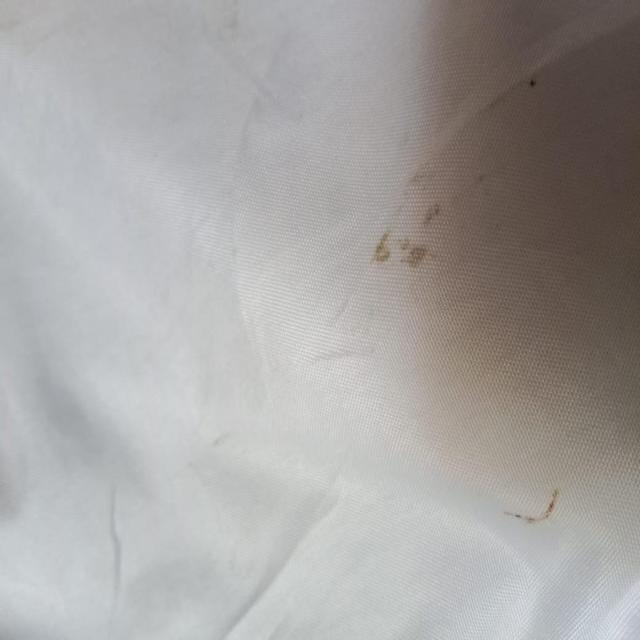stain: (374, 180, 448, 280), (504, 478, 566, 528), (526, 64, 545, 100)
